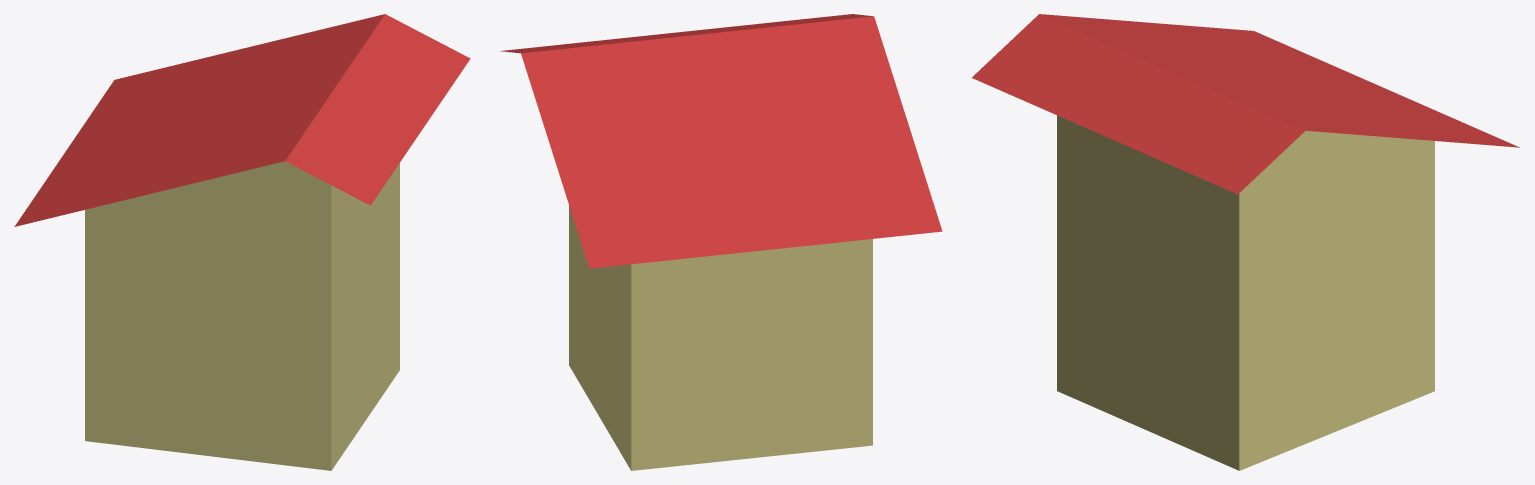
The picture shows the model from 3 angles, left to right: view 1: azimuth 30°, elevation 25°; view 2: azimuth 150°, elevation 25°; view 3: azimuth 270°, elevation 25°; orthographic projection. The views are drawn at different scales.
Bounding box in the file's own units: 9.05 × 9.05 × 6.35.
